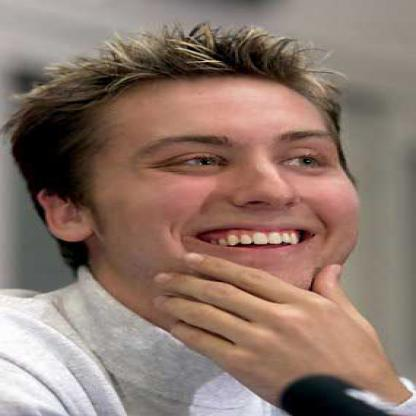face: (80, 49, 370, 318)
